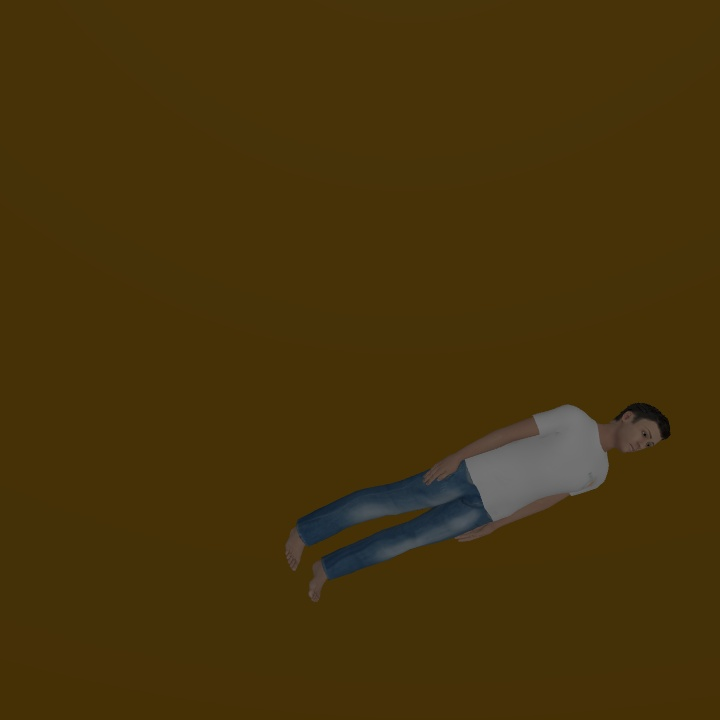victim: (285, 399, 667, 604)
